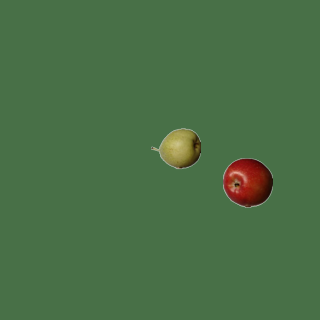Apple Braeburn: (222, 157, 272, 207)
Pear: (150, 123, 200, 173)
